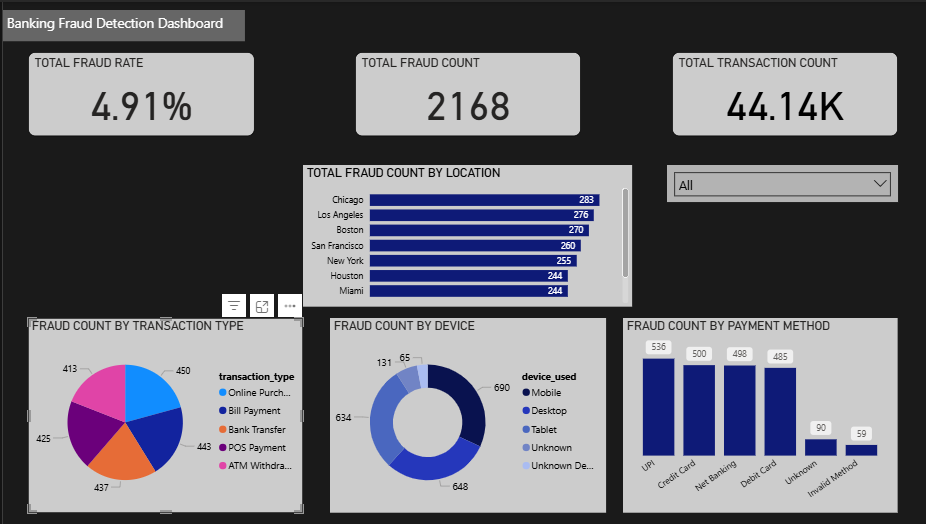

Layout of this report page (visuals, bound fields, positions):
{"tool":"powerbi","page":{"name":"Page 1","canvas":[1280,720],"ordinal":0},"visuals":[{"type":"card","title":"TOTAL TRANSACTION COUNT","fields":{"Values":["CountNonNull(fintech_db fintech_transactions.transaction_id)"]},"box":[920.8,68.8,311.1,115.6],"z":0},{"type":"card","title":"TOTAL FRAUD COUNT","fields":{"Values":["Sum(fintech_db fintech_transactions.fraudulent)"]},"box":[484.5,68.8,311.1,115.6],"z":1000},{"type":"clusteredBarChart","title":"TOTAL FRAUD COUNT BY LOCATION","fields":{"Category":["fintech_db fintech_transactions.location"],"Y":["Sum(fintech_db fintech_transactions.fraudulent)"]},"box":[412.9,224.3,452.8,195.4],"z":2000},{"type":"donutChart","title":"FRAUD COUNT BY DEVICE","fields":{"Y":["Sum(fintech_db fintech_transactions.fraudulent)"],"Category":["fintech_db fintech_transactions.device_used"]},"box":[450.1,434.9,379.9,268.4],"z":3000},{"type":"lineClusteredColumnComboChart","title":"FRAUD COUNT BY PAYMENT METHOD","fields":{"Category":["fintech_db fintech_transactions.payment_method"],"Y":["Sum(fintech_db fintech_transactions.fraudulent)"]},"box":[853.3,434.9,378.5,268.4],"z":4000},{"type":"pieChart","title":"FRAUD COUNT BY TRANSACTION TYPE","fields":{"Category":["fintech_db fintech_transactions.transaction_type"],"Y":["Sum(fintech_db fintech_transactions.fraudulent)"]},"box":[34.4,434.9,378.5,268.4],"z":5000},{"type":"card","title":"TOTAL FRAUD RATE","fields":{"Values":["fintech_db fintech_transactions.Fraud Rate"]},"box":[34.4,68.8,312.4,115.6],"z":6000},{"type":"textbox","box":[0,11.2,333,42.5],"z":7000},{"type":"slicer","fields":{"Values":["fintech_db fintech_transactions.device_used","fintech_db fintech_transactions.fraudulent"]},"box":[913.9,224.3,317.9,50.9],"z":8000}]}

Visuals, with their boxes in screenshot pixels (x1, y1, x2, y2), scaled from the page's 1280x720 canvas onto the 926x524 screenshot:
"TOTAL TRANSACTION COUNT" card: {"left": 666, "top": 50, "right": 891, "bottom": 134}
"TOTAL FRAUD COUNT" card: {"left": 351, "top": 50, "right": 576, "bottom": 134}
"TOTAL FRAUD COUNT BY LOCATION" clusteredBarChart: {"left": 299, "top": 163, "right": 626, "bottom": 305}
"FRAUD COUNT BY DEVICE" donutChart: {"left": 326, "top": 317, "right": 600, "bottom": 512}
"FRAUD COUNT BY PAYMENT METHOD" lineClusteredColumnComboChart: {"left": 617, "top": 317, "right": 891, "bottom": 512}
"FRAUD COUNT BY TRANSACTION TYPE" pieChart: {"left": 25, "top": 317, "right": 299, "bottom": 512}
"TOTAL FRAUD RATE" card: {"left": 25, "top": 50, "right": 251, "bottom": 134}
textbox: {"left": 0, "top": 8, "right": 241, "bottom": 39}
slicer - fintech_db fintech_transactions.device_used x fintech_db fintech_transactions.fraudulent: {"left": 661, "top": 163, "right": 891, "bottom": 200}
